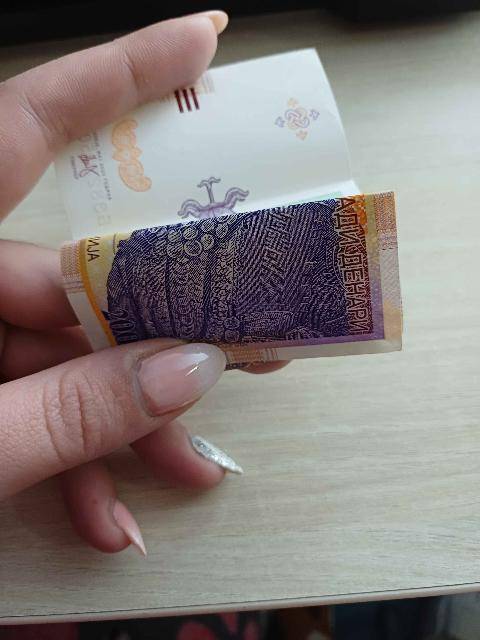note: (52, 50, 405, 365)
